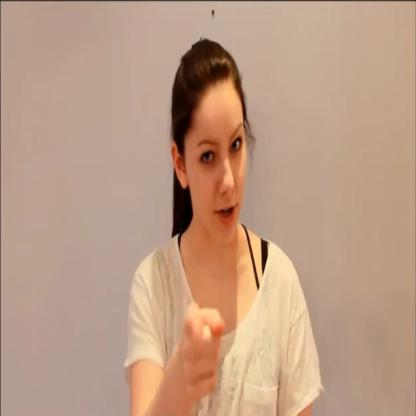HowAreYou: (162, 294, 245, 416)
